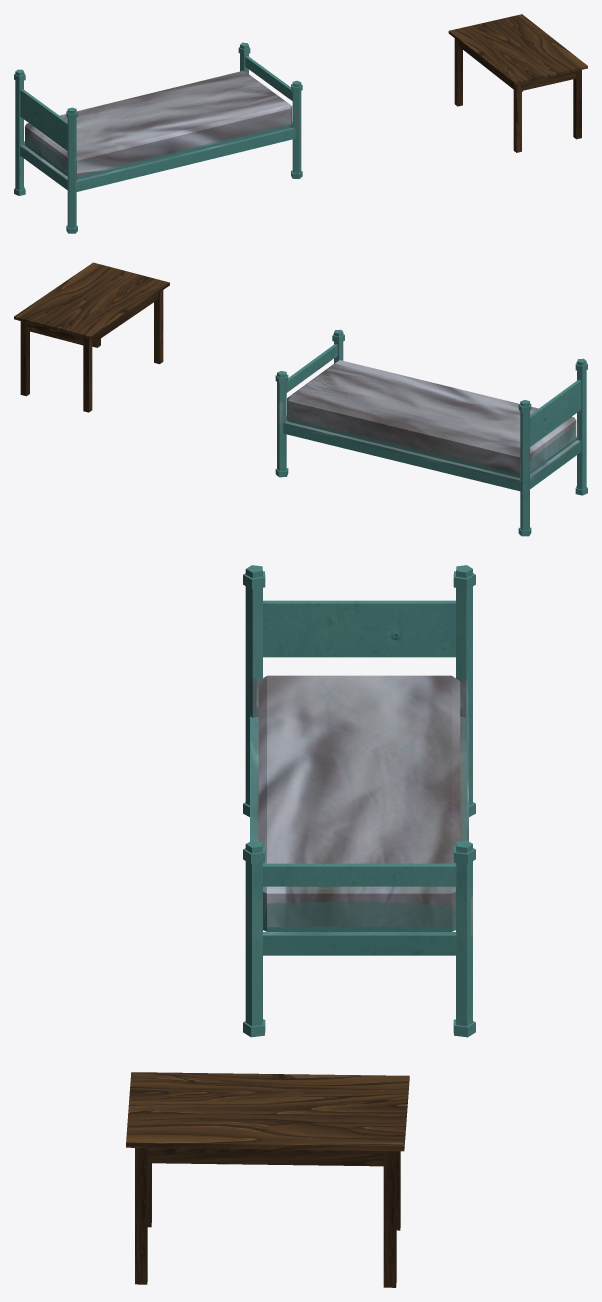
Rendered from mesa_cama.fbx.
3 renders of one model, top to bottom at view 1: azimuth 30°, elevation 25°; view 2: azimuth 150°, elevation 25°; view 3: azimuth 270°, elevation 25°, orthographic. The views are drawn at different scales.
Parts seen in each view (by area): view 1: cama, mesa; view 2: cama, mesa; view 3: cama, mesa.
Part boxes in pixels (x1,y1,x2,y2): cama: (14,42,302,233); mesa: (448,14,587,152); cama: (275,329,587,536); mesa: (14,262,169,412); cama: (243,565,475,1037); mesa: (126,1072,409,1287).
Size of the model in its own units: 201 by 48.26 by 61.85.
1 material, 1 textured.
